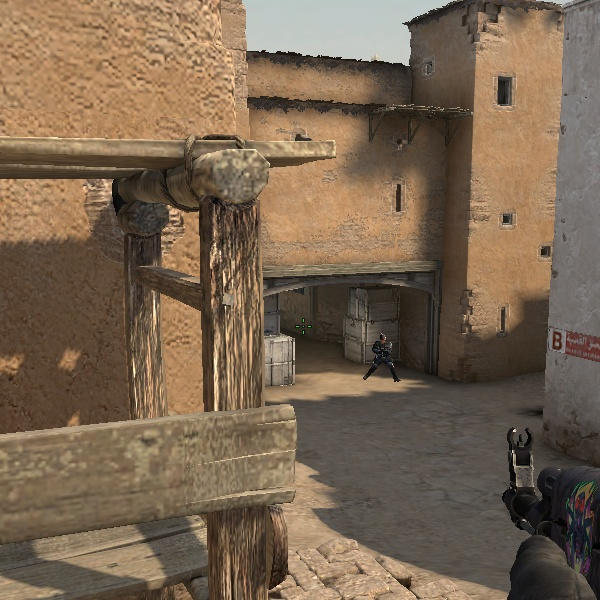ct_body: (366, 333, 397, 380)
ct_head: (379, 333, 388, 345)
